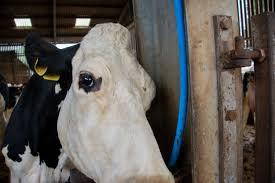cow: (0, 24, 174, 183)
